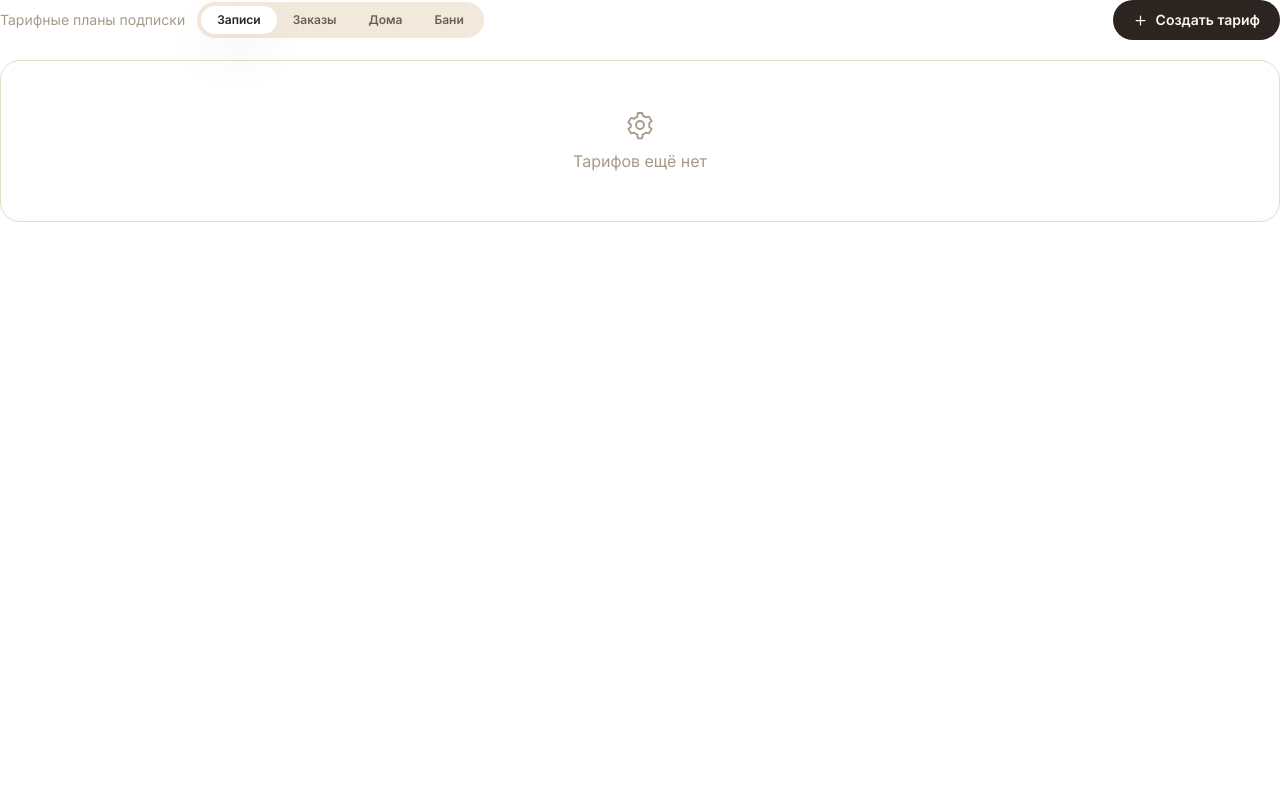
Test case: PlansTab — retired-limit-options hint (cycle 19) › shows the hint under both limit fields when creating a plan
Click the button "Создать тариф": (1196, 20) [1113,0,1279,40]
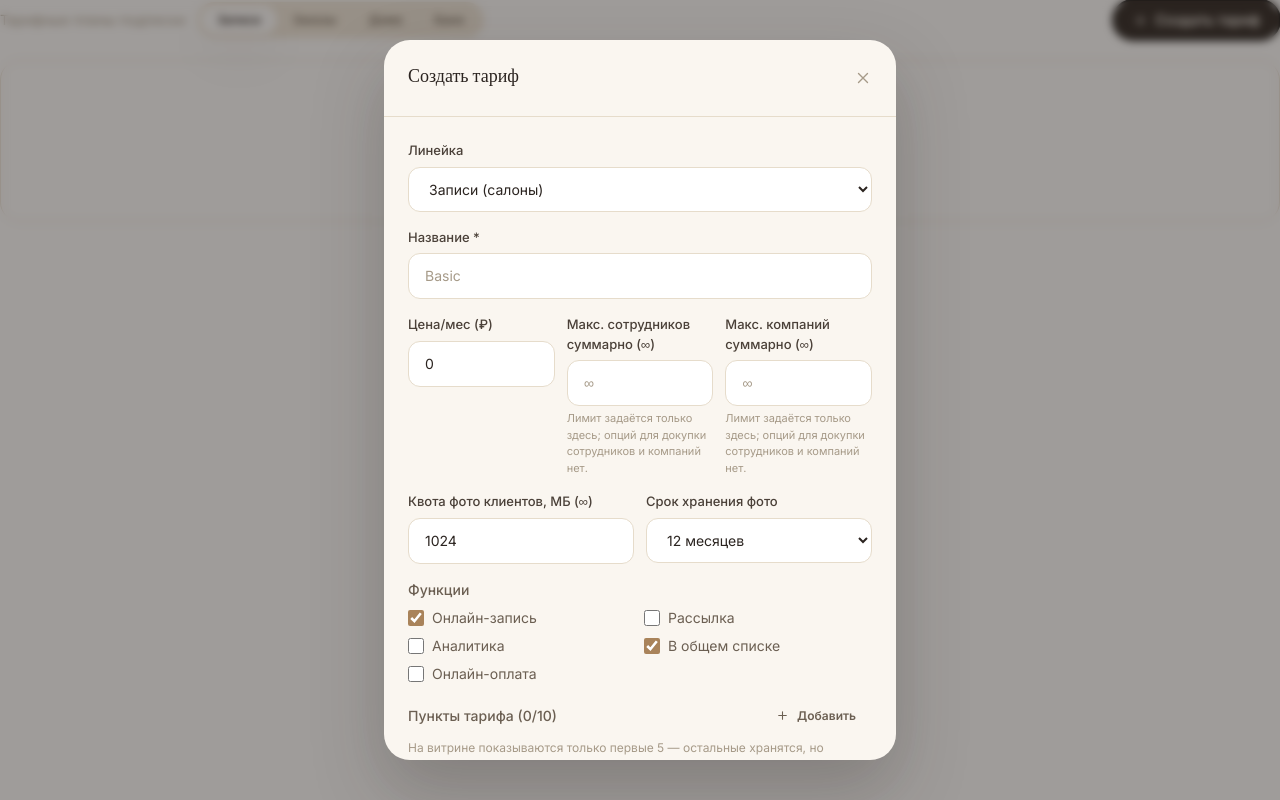
Expected: the text "Лимит задаётся только здесь; опций для докупки сотрудников и компаний нет." is shown 2 times, [567,410,713,476]; [725,410,872,476]
